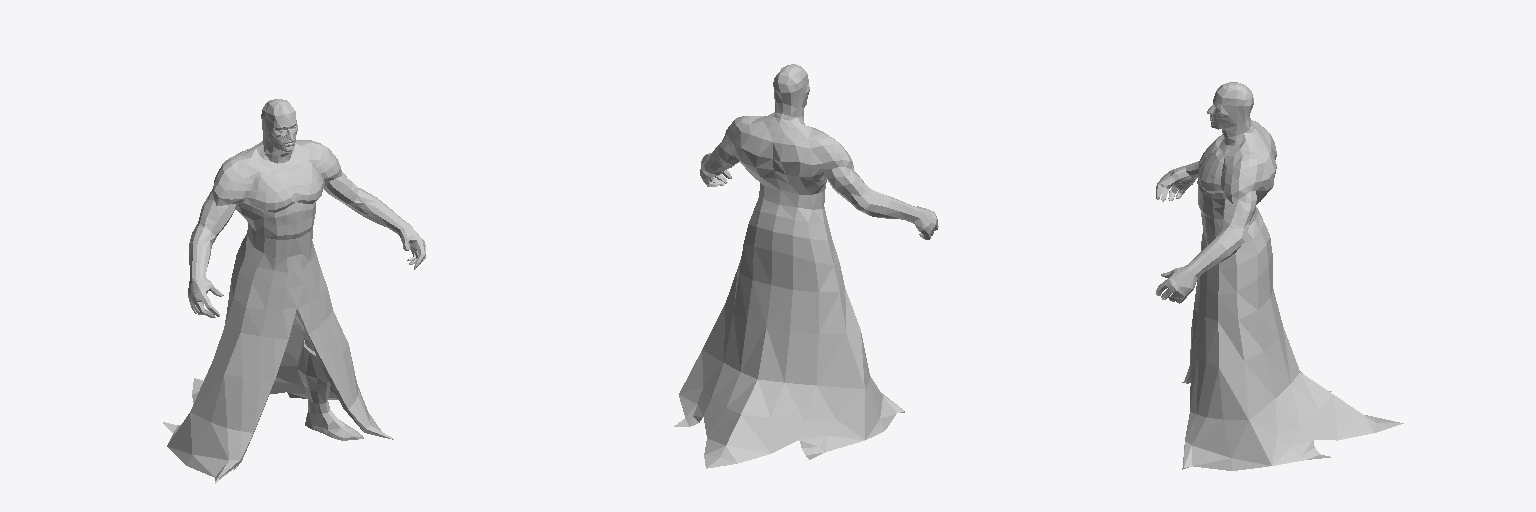
The model's file is silencer.obj.
3 views of the same model, side by side, from view 1: azimuth 30°, elevation 25°; view 2: azimuth 150°, elevation 25°; view 3: azimuth 270°, elevation 25° (orthographic).
Parts seen in each view (by area): view 1: silencer_robe_model.001, silencer.vmdl_c.Embedded.002; view 2: silencer_robe_model.001, silencer.vmdl_c.Embedded.002; view 3: silencer_robe_model.001, silencer.vmdl_c.Embedded.002.
Part boxes in pixels (bbox=[...]): silencer_robe_model.001: bbox=[163, 234, 393, 483]; silencer.vmdl_c.Embedded.002: bbox=[188, 99, 426, 469]; silencer_robe_model.001: bbox=[674, 197, 904, 468]; silencer.vmdl_c.Embedded.002: bbox=[700, 64, 938, 239]; silencer_robe_model.001: bbox=[1182, 207, 1403, 470]; silencer.vmdl_c.Embedded.002: bbox=[1156, 82, 1276, 303].
Bounding box in the file's own units: 3.56 × 5.04 × 3.29.